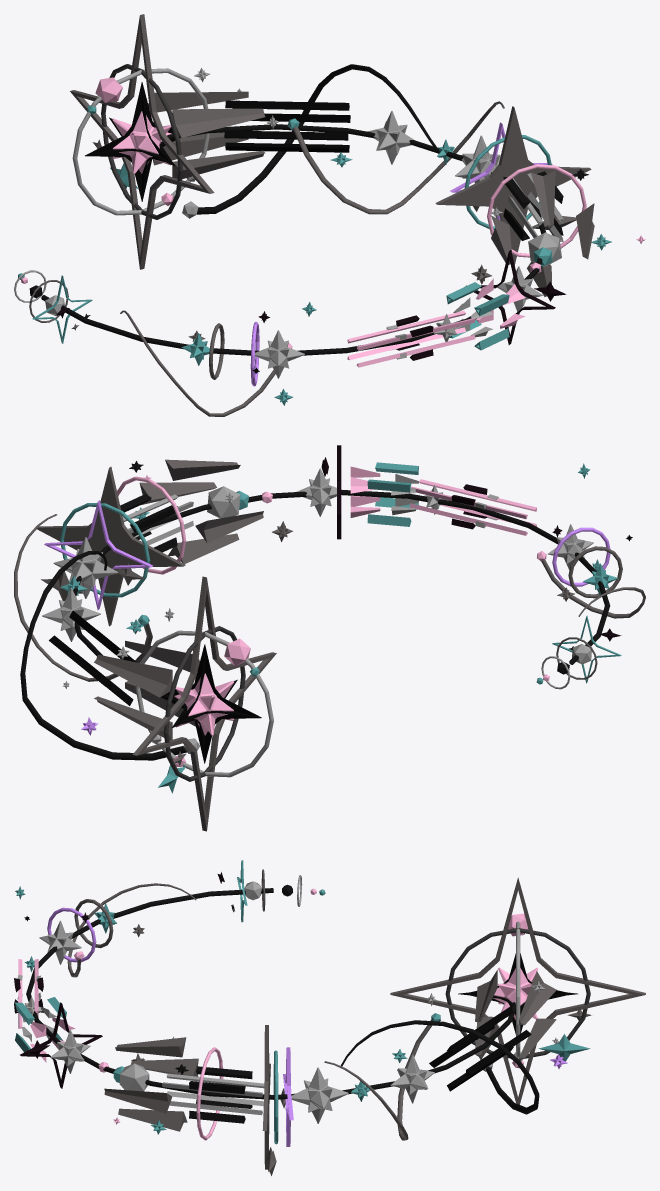
File: shooting star_st2.fbx
3 renders of one model, top to bottom at view 1: azimuth 30°, elevation 25°; view 2: azimuth 150°, elevation 25°; view 3: azimuth 270°, elevation 25°, orthographic. The views are drawn at different scales.
Visible parts, largest first — view 1: star_follow1; view 2: star_follow1; view 3: star_follow1.
Part boxes in pixels (bbox=[...]): star_follow1: bbox=[14, 14, 645, 416]; star_follow1: bbox=[14, 445, 645, 831]; star_follow1: bbox=[14, 860, 645, 1175].
Size of the model in its own units: 246 by 104 by 258.
